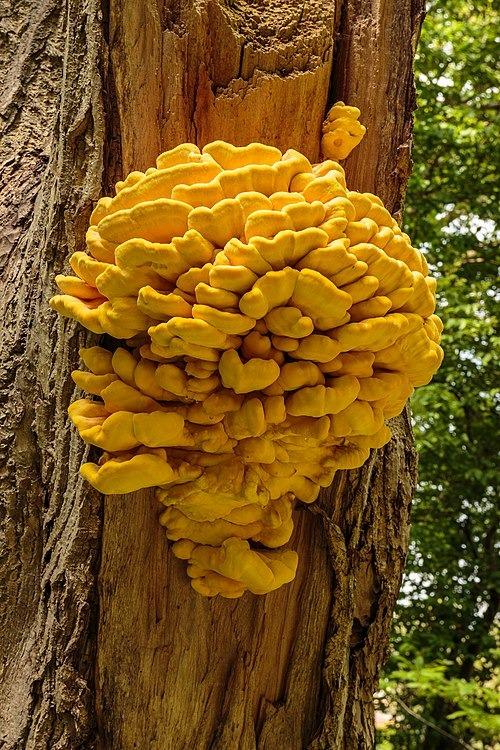Sulphur-yellow tinder fungus: (51, 141, 441, 596)
